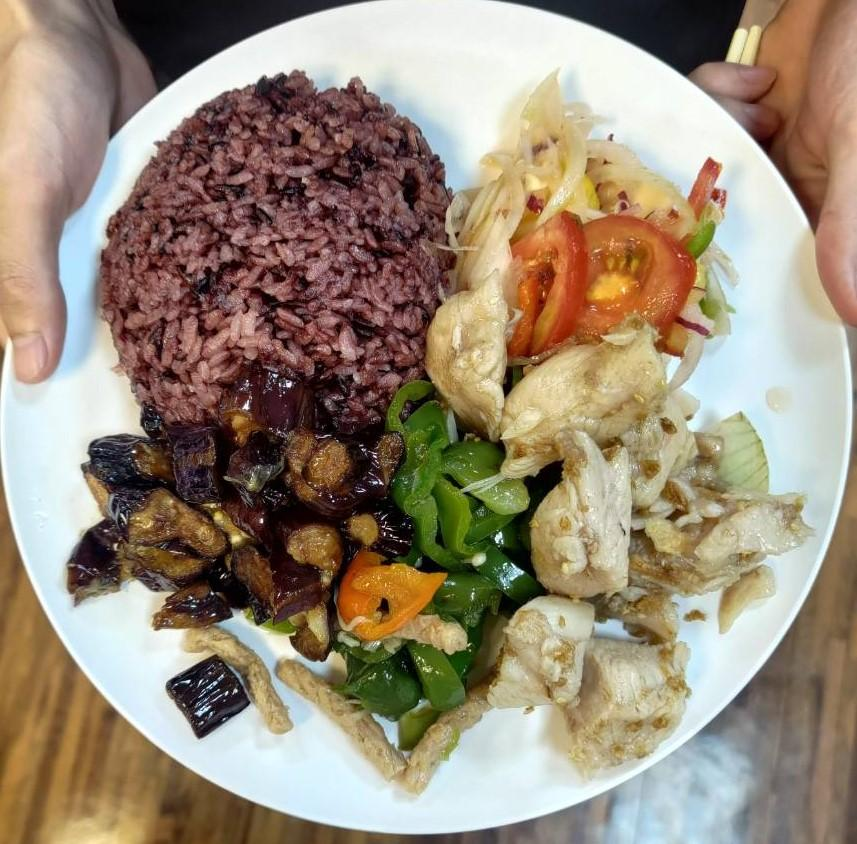big fried chicken leg: (12, 6, 849, 833)
braised fish: (90, 72, 466, 438)
braised fish fillet: (58, 410, 401, 731), (434, 86, 719, 365), (360, 386, 527, 734)
braised pork: (424, 292, 805, 771)
